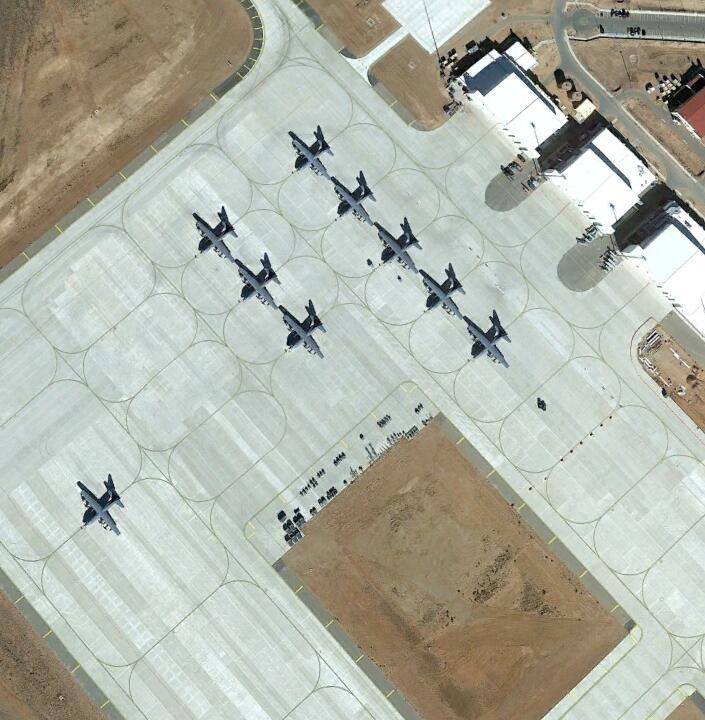A2: (78, 482, 127, 539), (279, 306, 327, 364), (418, 268, 468, 318), (373, 219, 422, 268), (287, 130, 335, 178), (467, 316, 511, 368), (237, 262, 281, 313), (333, 178, 377, 227), (193, 209, 235, 260)
